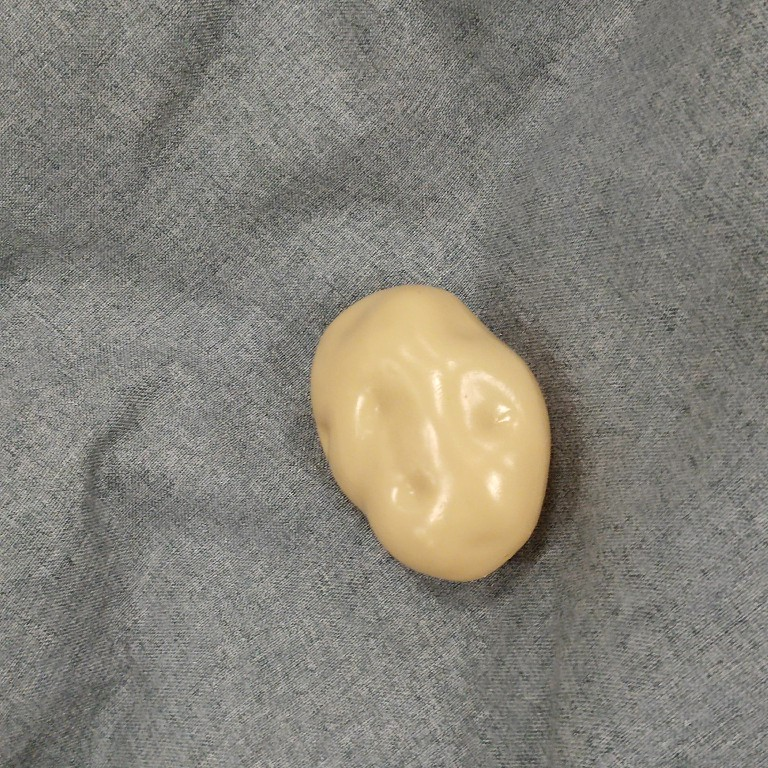fruit_potato: (305, 282, 557, 586)
